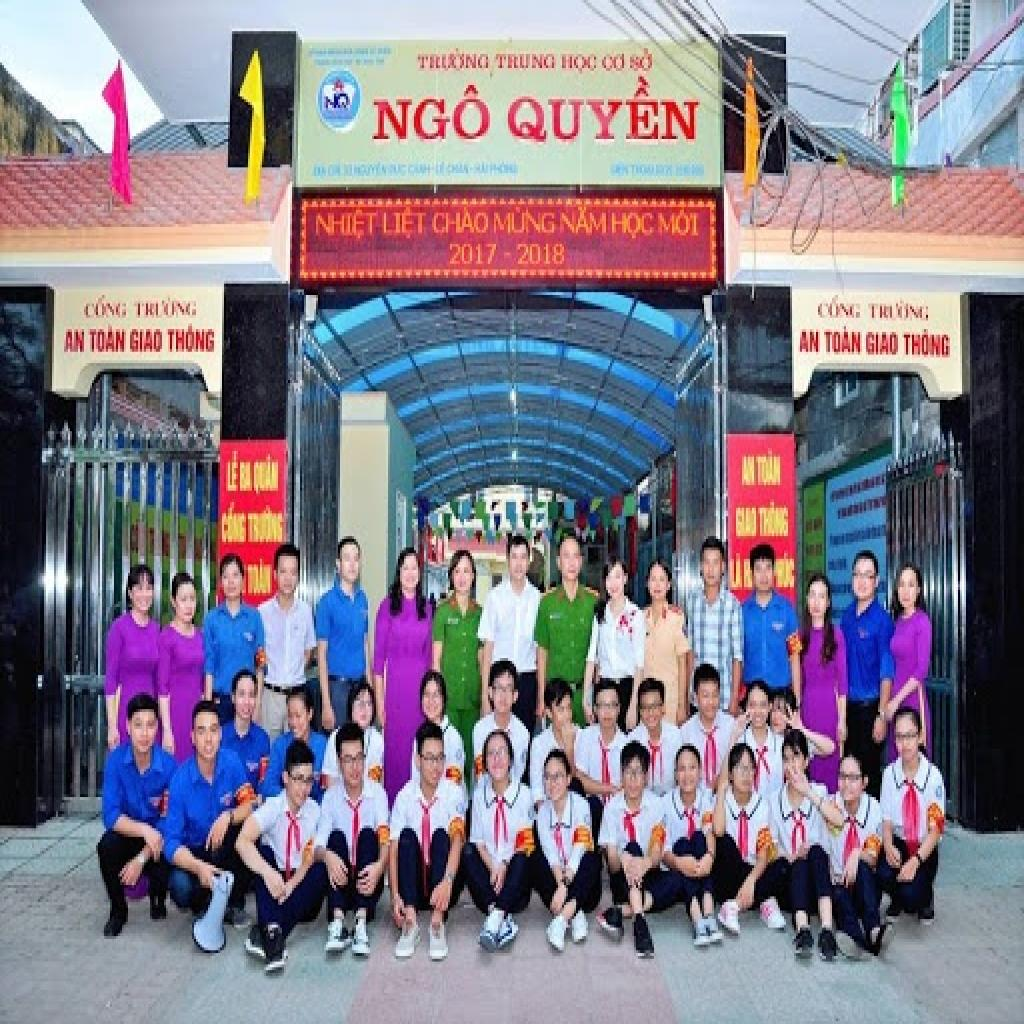text: (502, 71, 702, 153), (368, 82, 494, 145), (314, 207, 380, 244), (414, 45, 492, 74), (430, 204, 492, 238), (492, 207, 558, 238), (130, 292, 200, 321), (166, 320, 218, 358), (446, 241, 514, 270), (902, 326, 954, 363), (866, 298, 932, 326), (382, 207, 430, 244), (558, 204, 610, 238), (492, 48, 558, 74), (86, 320, 130, 358), (656, 204, 700, 241), (514, 241, 570, 270), (82, 292, 130, 324), (248, 505, 284, 547), (758, 499, 792, 542), (824, 324, 864, 360), (610, 210, 656, 241), (252, 454, 282, 499), (816, 295, 864, 323), (864, 326, 902, 360), (754, 448, 784, 491), (128, 326, 166, 358), (222, 502, 248, 548), (558, 51, 600, 79), (246, 556, 274, 598), (734, 505, 760, 542), (628, 42, 656, 76), (776, 550, 798, 593), (62, 324, 88, 358), (798, 326, 824, 358), (352, 159, 390, 179), (600, 51, 628, 77), (728, 553, 746, 593), (322, 91, 354, 113), (226, 451, 240, 496), (490, 159, 520, 179), (740, 454, 756, 491), (240, 460, 254, 496), (408, 162, 438, 178), (388, 162, 410, 178), (474, 162, 492, 178)
